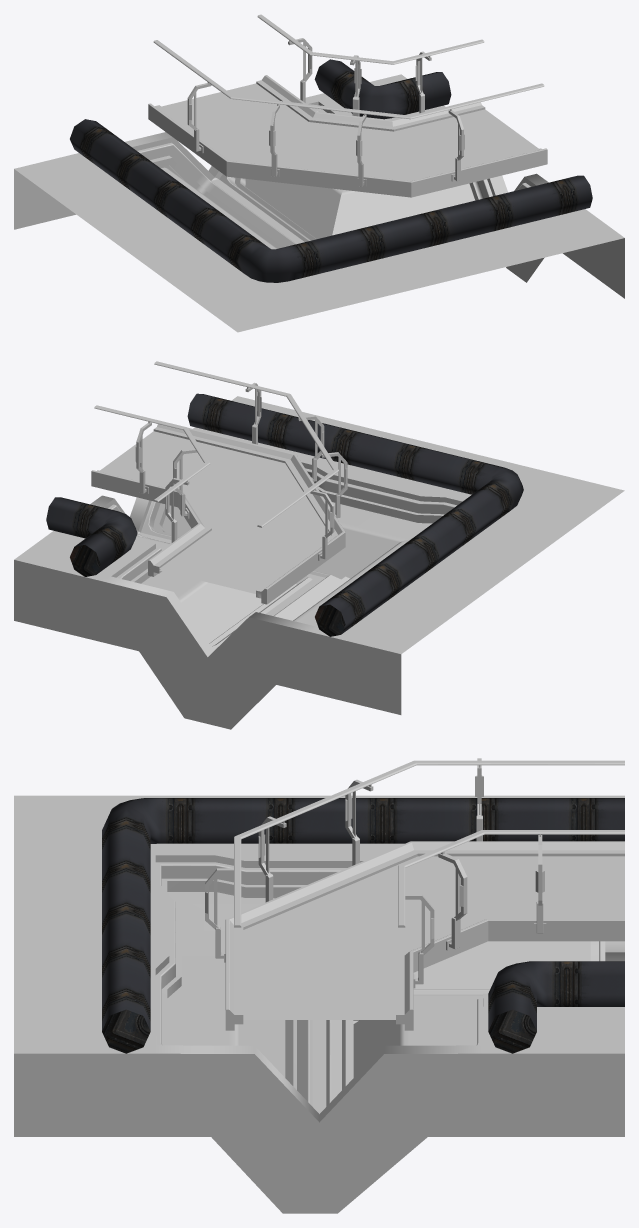
Rendered from Prop_Subflor_base_corner_a.fbx.
3 views of the same model, one above another, from view 1: azimuth 30°, elevation 25°; view 2: azimuth 150°, elevation 25°; view 3: azimuth 270°, elevation 25° (orthographic). The views are drawn at different scales.
Visible parts, largest first — view 1: Prop_Subflor_base_corner_a; view 2: Prop_Subflor_base_corner_a; view 3: Prop_Subflor_base_corner_a.
Part boxes in pixels (bbox=[...]): Prop_Subflor_base_corner_a: bbox=[14, 14, 624, 332]; Prop_Subflor_base_corner_a: bbox=[14, 361, 624, 729]; Prop_Subflor_base_corner_a: bbox=[14, 758, 624, 1213].
Size of the model in its own units: 6000 by 6000 by 3123.
